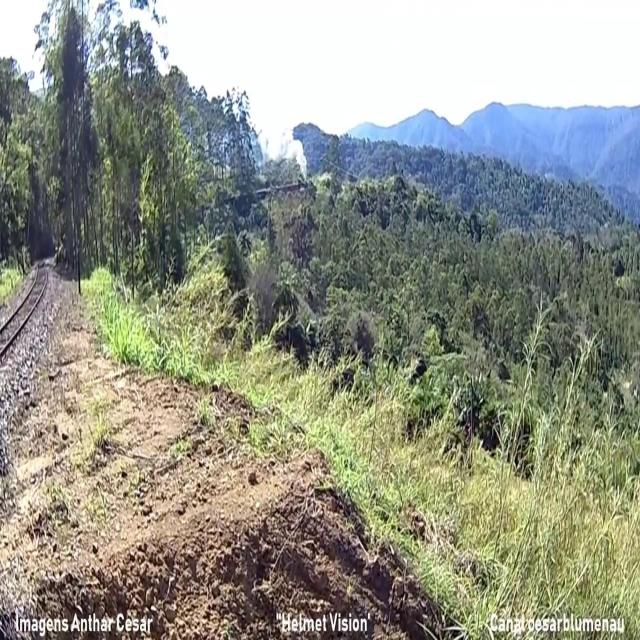Smoke: (293, 138, 309, 178)
